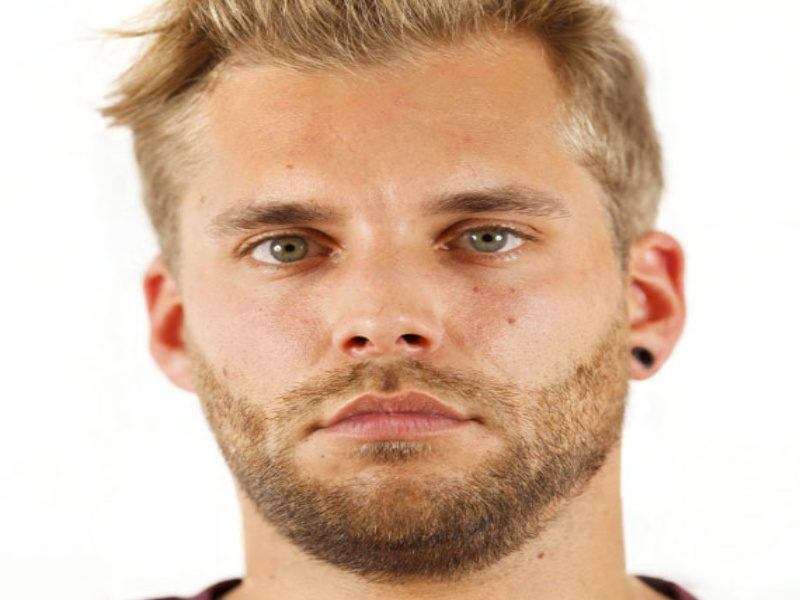face: (202, 86, 606, 519)
